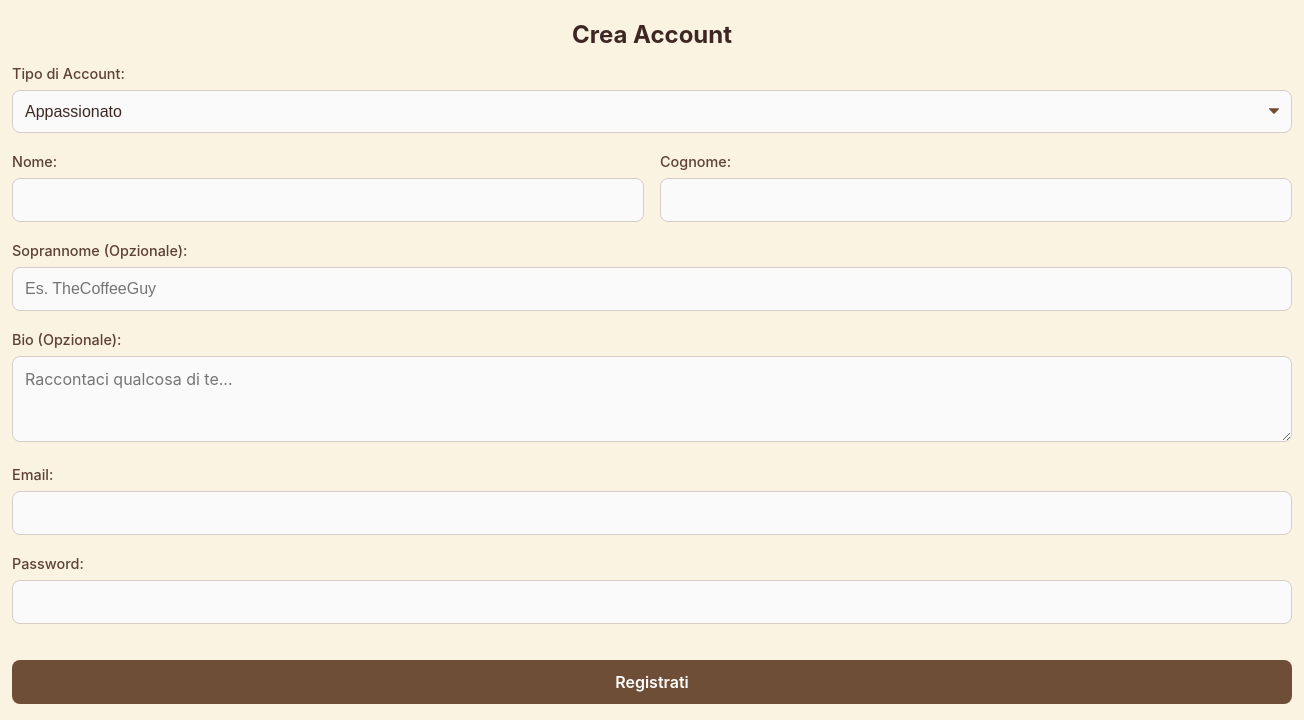
Scenario: Register Page › changes form fields based on role selection
Expected: the field labelled "Nome:" is shown, [12,178,644,222]
Change to Torrefazione
Select "Torrefazione" in the dropdown: [652, 111] box [12,90,1292,133]
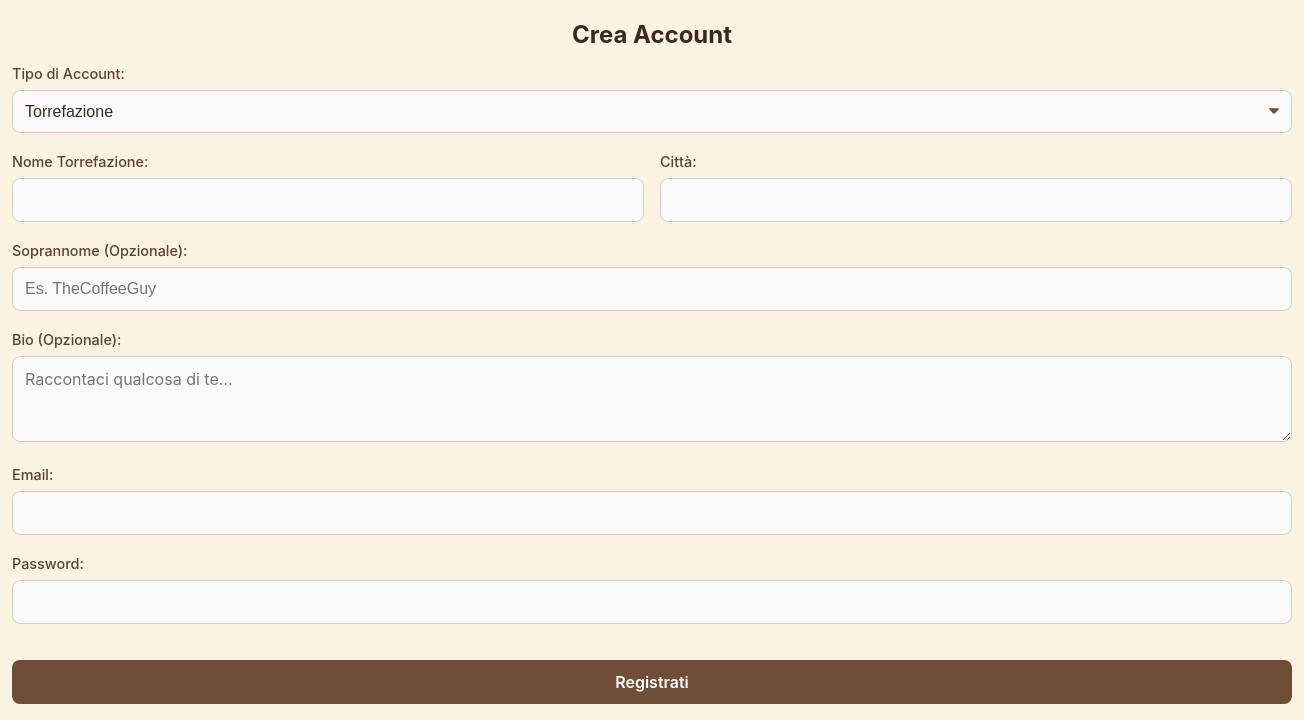
Expected: the field labelled "Nome Torrefazione:" is shown, [12,178,644,222]
Expected: the label labelled "Nome:" is gone
